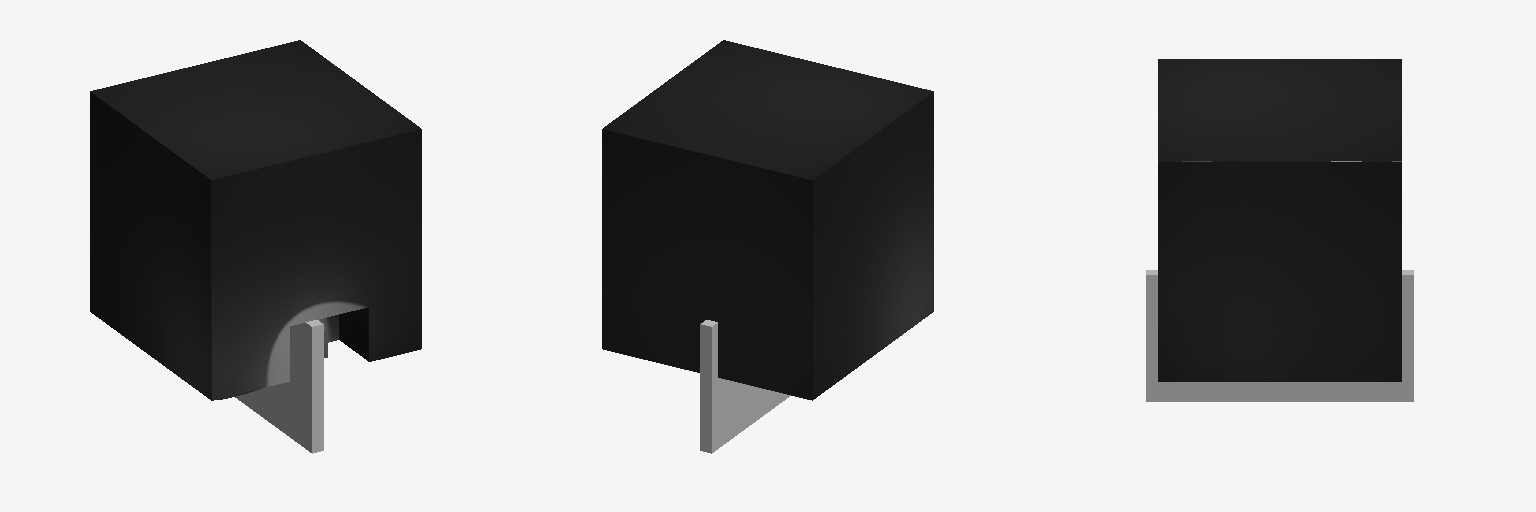
3 views of the same model, side by side, from view 1: azimuth 30°, elevation 25°; view 2: azimuth 150°, elevation 25°; view 3: azimuth 270°, elevation 25° (orthographic).
Parts seen in each view (by area): view 1: Cube_Cube.001, Cube.001_Cube.002; view 2: Cube_Cube.001, Cube.001_Cube.002; view 3: Cube_Cube.001, Cube.001_Cube.002.
Boxes of the visible parts, x1,y1,x2,y2 form: Cube_Cube.001: [90, 40, 421, 400]; Cube.001_Cube.002: [235, 320, 323, 453]; Cube_Cube.001: [602, 40, 933, 400]; Cube.001_Cube.002: [700, 320, 790, 453]; Cube_Cube.001: [1158, 59, 1401, 381]; Cube.001_Cube.002: [1146, 270, 1413, 401].
Size of the model in its own units: 8 by 10.59 by 8.83.
2 materials, 1 textured.